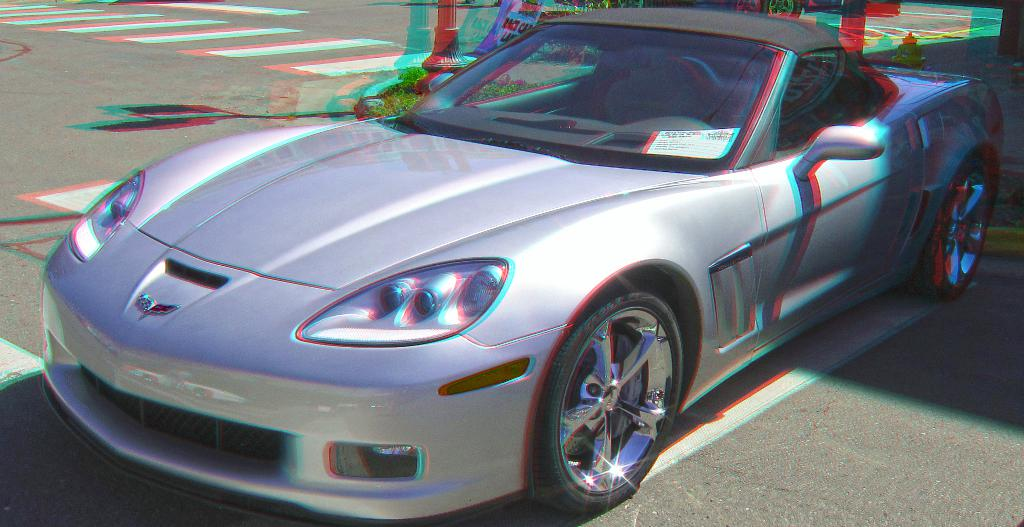Car: (0, 14, 964, 516)
